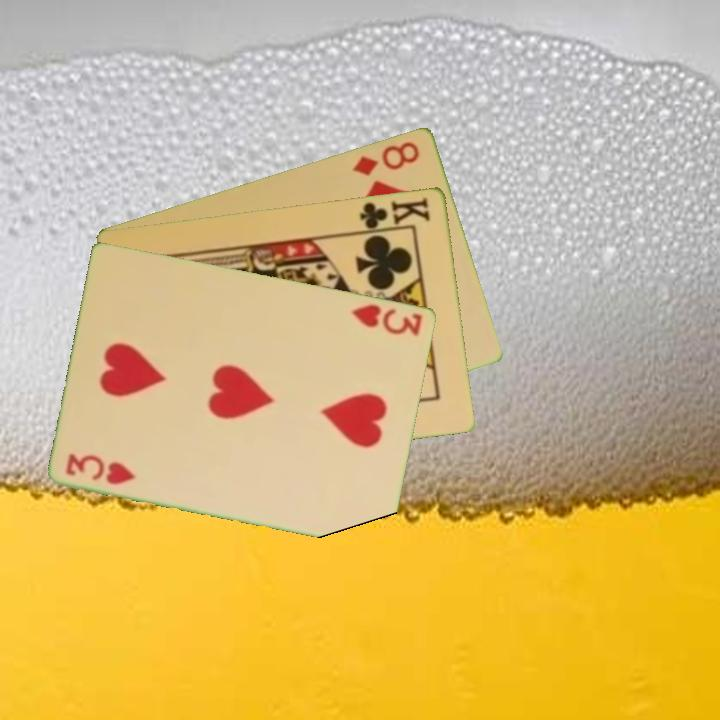3h: (63, 449, 140, 488), (348, 300, 426, 338)
8d: (349, 137, 423, 178)
Kc: (355, 193, 433, 235)
